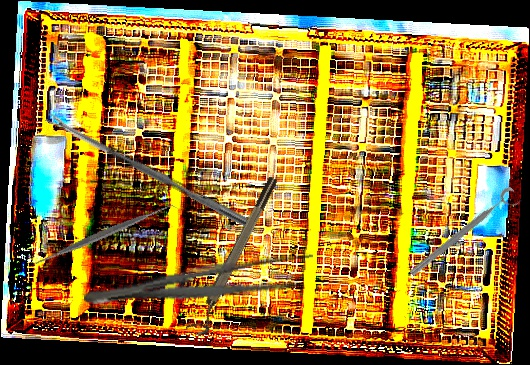Dressing Forceps: (81, 247, 318, 320)
Fixation Ring: (185, 175, 287, 339), (406, 184, 524, 286)
Spatula Surgical: (27, 158, 180, 311)
Surgical Spoon: (45, 111, 253, 229)
